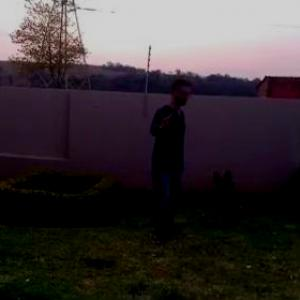takeoff-hand: (154, 106, 180, 133)
